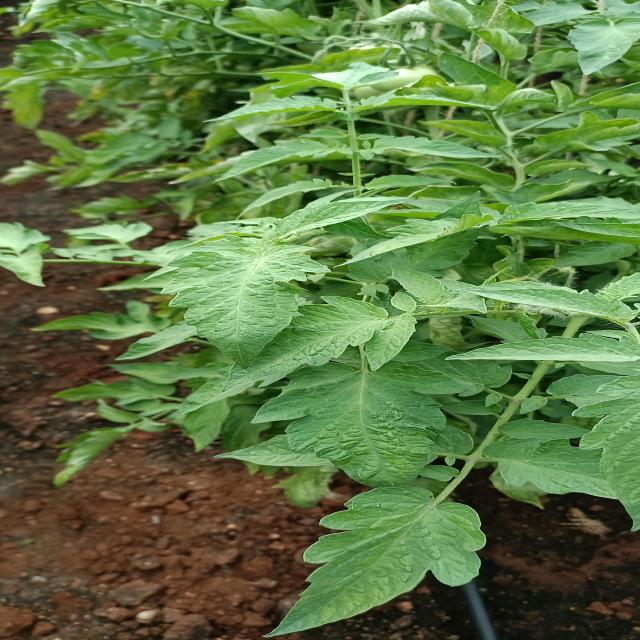Healthy Leaf: (247, 485, 503, 640), (253, 357, 491, 487), (148, 238, 321, 367), (451, 287, 640, 336), (332, 210, 495, 263), (487, 193, 640, 225)
